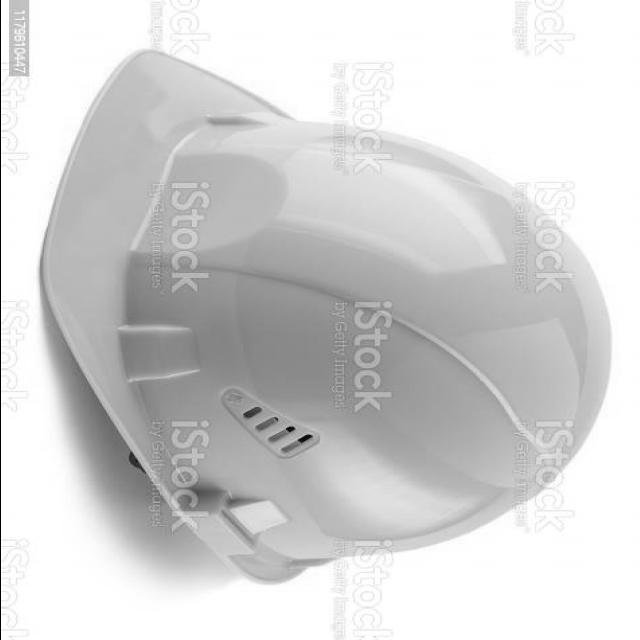safety_helmet: (36, 48, 610, 587)
